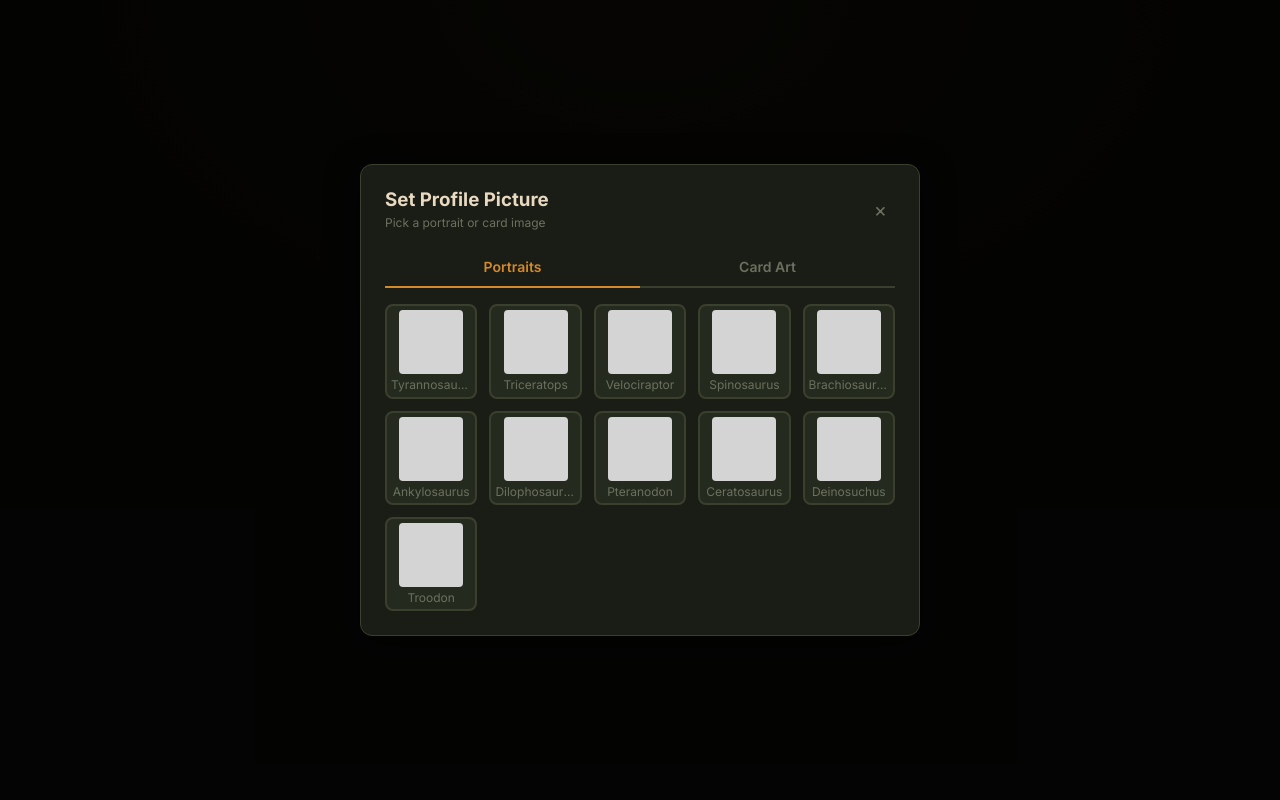
AvatarPicker › switches to Card Art tab and shows card images
Click the button "Card Art" at (768, 268), box [640,248,895,288]
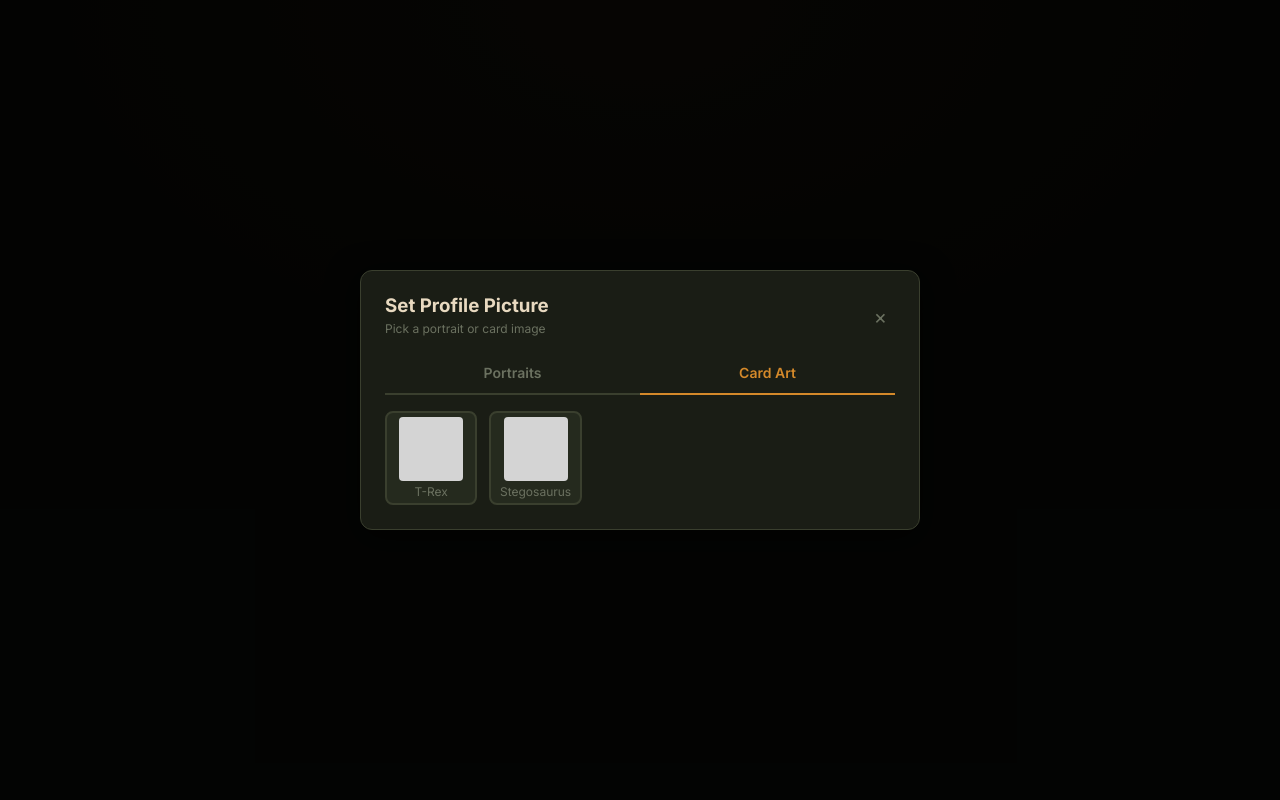
Expected: the button titled "T-Rex" is shown, [385,411,477,505]
Expected: the button titled "Stegosaurus" is shown, [489,411,582,505]
